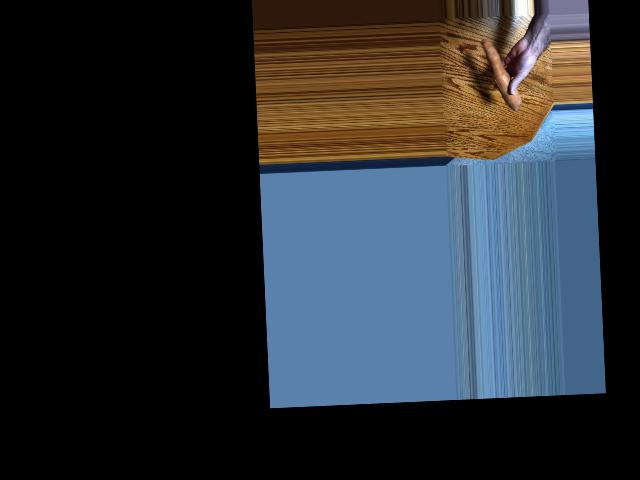sweet_potato: (486, 36, 513, 114)
